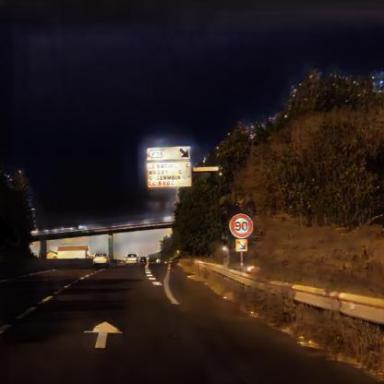Speed_limit_90: (229, 214, 255, 238)
